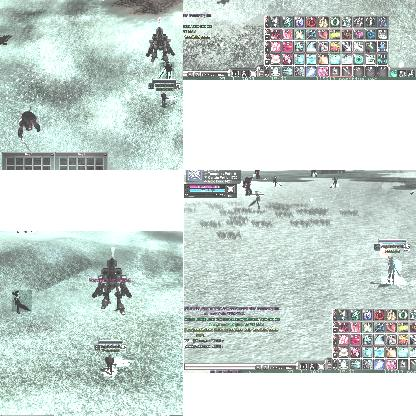caliana: (12, 290, 32, 312), (160, 62, 174, 78), (248, 197, 260, 209), (271, 176, 281, 186), (410, 181, 416, 195), (330, 178, 338, 188)
